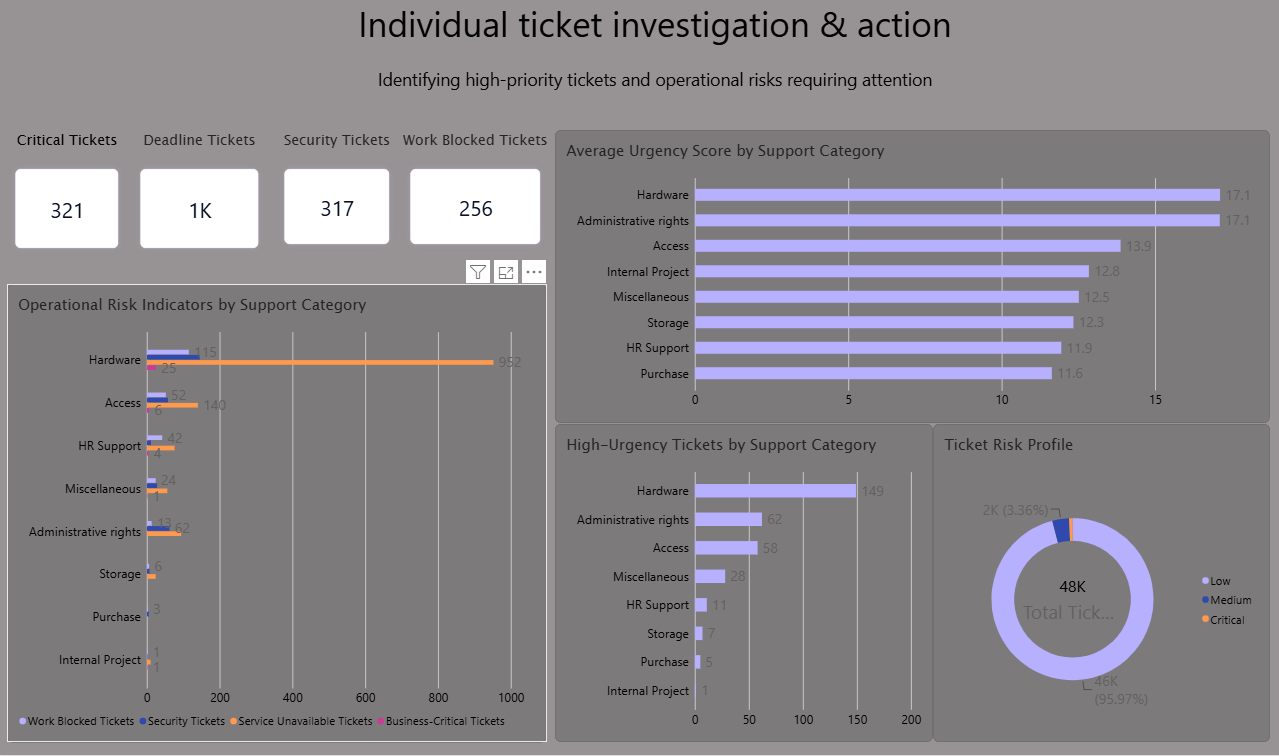

The page's visual inventory and layout, read from the dashboard file:
{"tool":"powerbi","page":{"name":"Individual ticket investigation & action","canvas":[1950,1150],"ordinal":2},"visuals":[{"type":"textbox","box":[477.3,0,1038.1,162.9],"z":0},{"type":"cardVisual","title":"Work Blocked Tickets","fields":{"Data":["it_support_analytics vw_ticket_summary.Work Blocked Tickets"]},"box":[613,199.3,220.3,185.9],"z":1000},{"type":"cardVisual","title":"Critical Tickets","fields":{"Data":["it_support_analytics vw_ticket_summary.Critical Tickets"]},"box":[12.2,199.4,179.9,191.9],"z":2000},{"type":"cardVisual","title":"Deadline Tickets","fields":{"Data":["it_support_analytics vw_ticket_summary.Deadline Tickets"]},"box":[202.5,199.4,202.5,191.8],"z":3000},{"type":"cardVisual","title":"Security Tickets","fields":{"Data":["it_support_analytics vw_ticket_summary.Security Tickets"]},"box":[421.7,199.4,182.7,185.7],"z":4000},{"type":"clusteredBarChart","title":"Average Urgency Score by Support Category","fields":{"Category":["it_support_analytics vw_ticket_summary.category_name"],"Y":["it_support_analytics vw_ticket_summary.Average Urgency"]},"box":[844.8,199.4,1088.4,446],"z":6000},{"type":"clusteredBarChart","title":"High-Urgency Tickets by Support Category","fields":{"Category":["it_support_analytics vw_ticket_summary.category_name"],"Y":["it_support_analytics vw_category_kpis.High-Urgency Tickets"]},"box":[845.5,647.2,575,484.4],"z":7000},{"type":"donutChart","title":"Ticket Risk Profile","fields":{"Category":["it_support_analytics vw_ticket_summary.priority_name"],"Y":["it_support_analytics vw_ticket_summary.Total Tickets"]},"box":[1420.5,647.2,512.7,484.4],"z":8000},{"type":"clusteredBarChart","title":"Operational Risk Indicators by Support Category","fields":{"Category":["it_support_analytics vw_ticket_summary.category_name"],"Y":["it_support_analytics vw_ticket_summary.Work Blocked Tickets","it_support_analytics vw_ticket_summary.Security Tickets","it_support_analytics vw_ticket_summary.Service Unavailable Tickets","it_support_analytics vw_category_kpis.Business-Critical Tickets"]},"box":[11.3,433.4,821.4,698.2],"z":9000}]}

Visuals, with their boxes in screenshot pixels (x1, y1, x2, y2), scaled from the page's 1950x1150 canvas onto the 1279x756 screenshot:
textbox: box=[313, 0, 994, 107]
"Work Blocked Tickets" cardVisual: box=[402, 131, 547, 253]
"Critical Tickets" cardVisual: box=[8, 131, 126, 257]
"Deadline Tickets" cardVisual: box=[133, 131, 266, 257]
"Security Tickets" cardVisual: box=[277, 131, 396, 253]
"Average Urgency Score by Support Category" clusteredBarChart: box=[554, 131, 1268, 424]
"High-Urgency Tickets by Support Category" clusteredBarChart: box=[555, 425, 932, 744]
"Ticket Risk Profile" donutChart: box=[932, 425, 1268, 744]
"Operational Risk Indicators by Support Category" clusteredBarChart: box=[7, 285, 546, 744]
